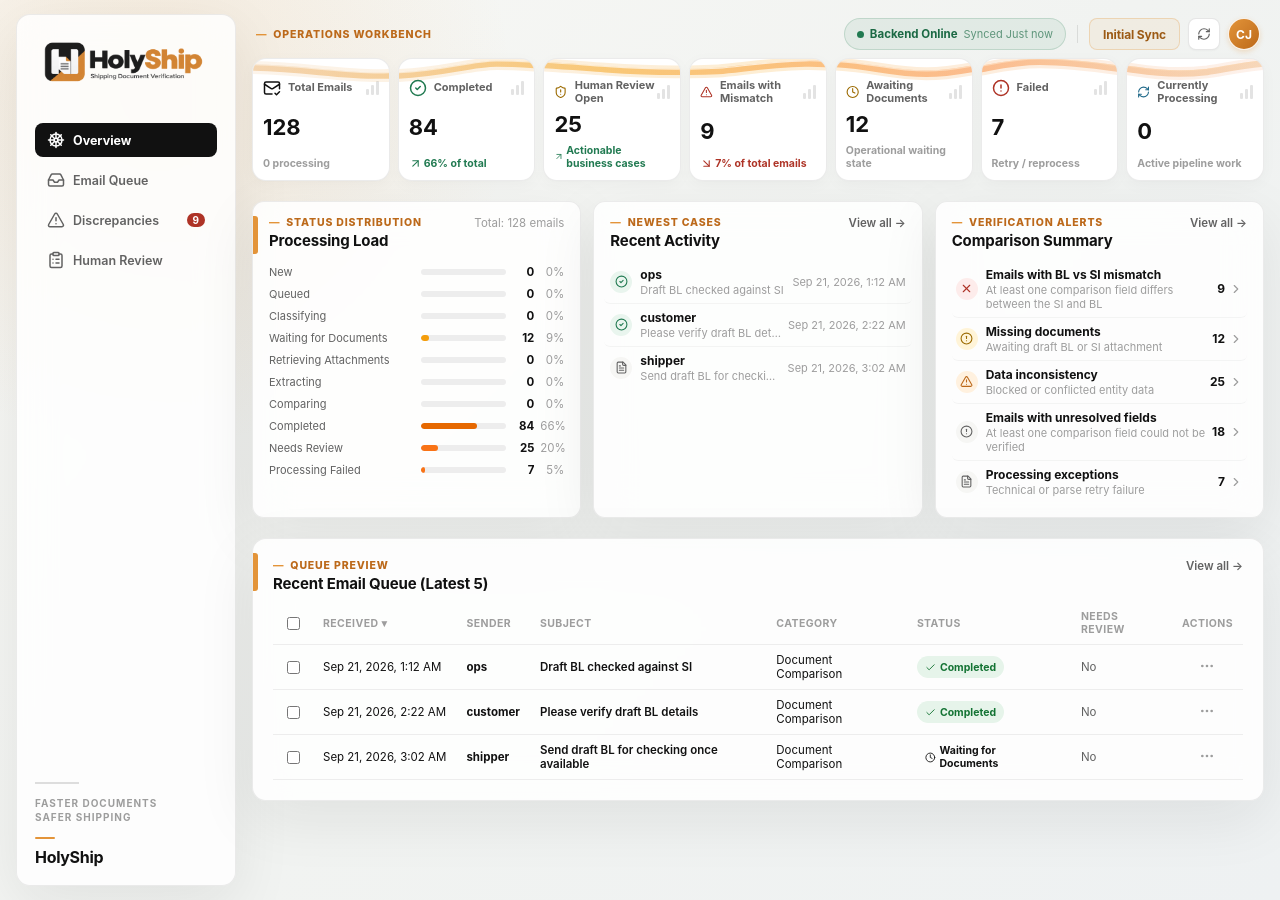
Test: HolyShip dashboard › navigates to queue with corresponding filters when clicking overview cards and alerts
The width and height of the screenshot is (1280, 900).
Note: Click "Emails with BL vs SI mismatch" alert row
Step 1. Click the text "Emails with BL vs SI mismatch" → {"x": 1073, "y": 274}, box [986,267,1161,282]
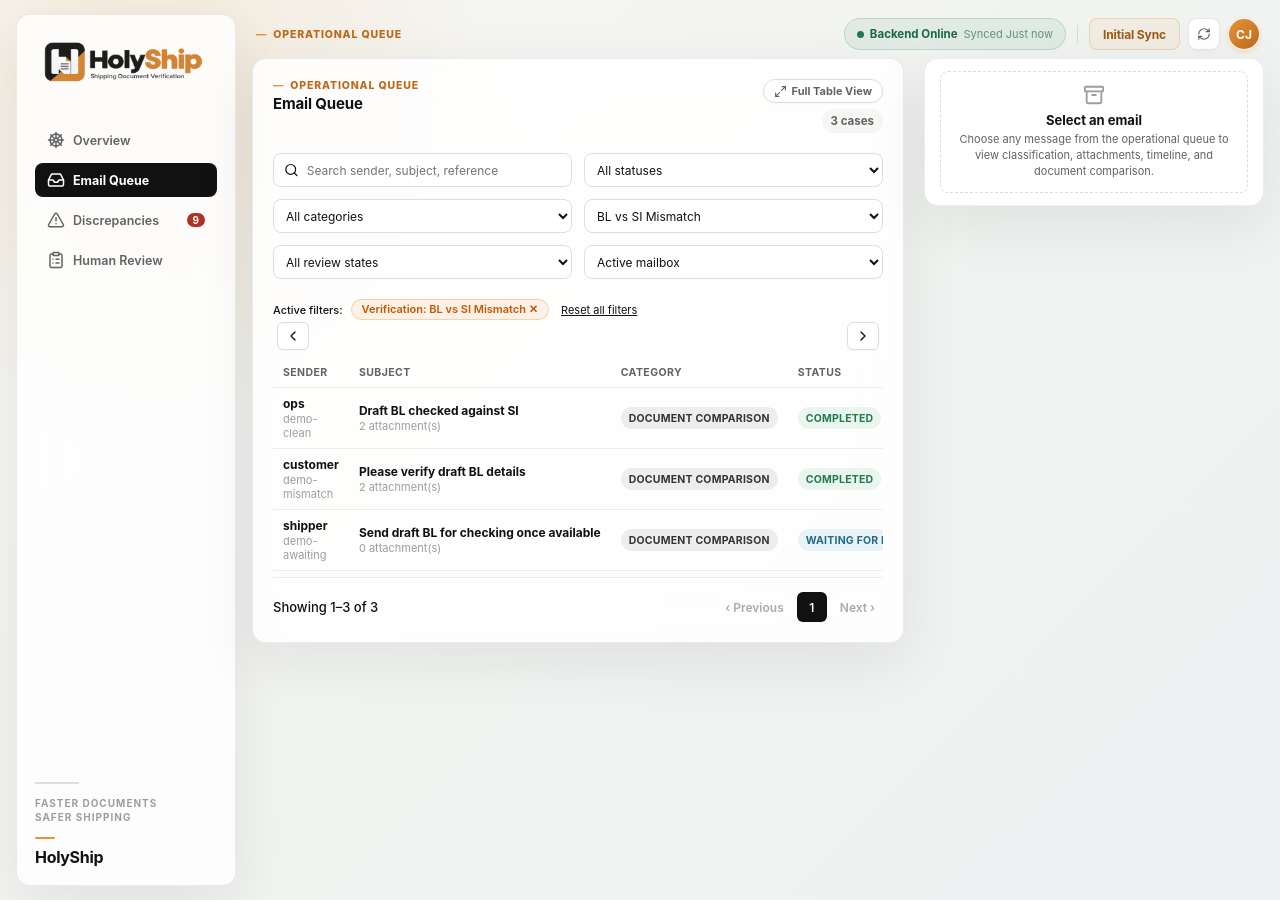
Now the button "Verification: BL vs SI Mismatch ✕" is shown, box [351,299,549,320]
Note: Navigate back to overview
Step 2. Click the button "Overview" → {"x": 126, "y": 140}, box [35,123,217,157]
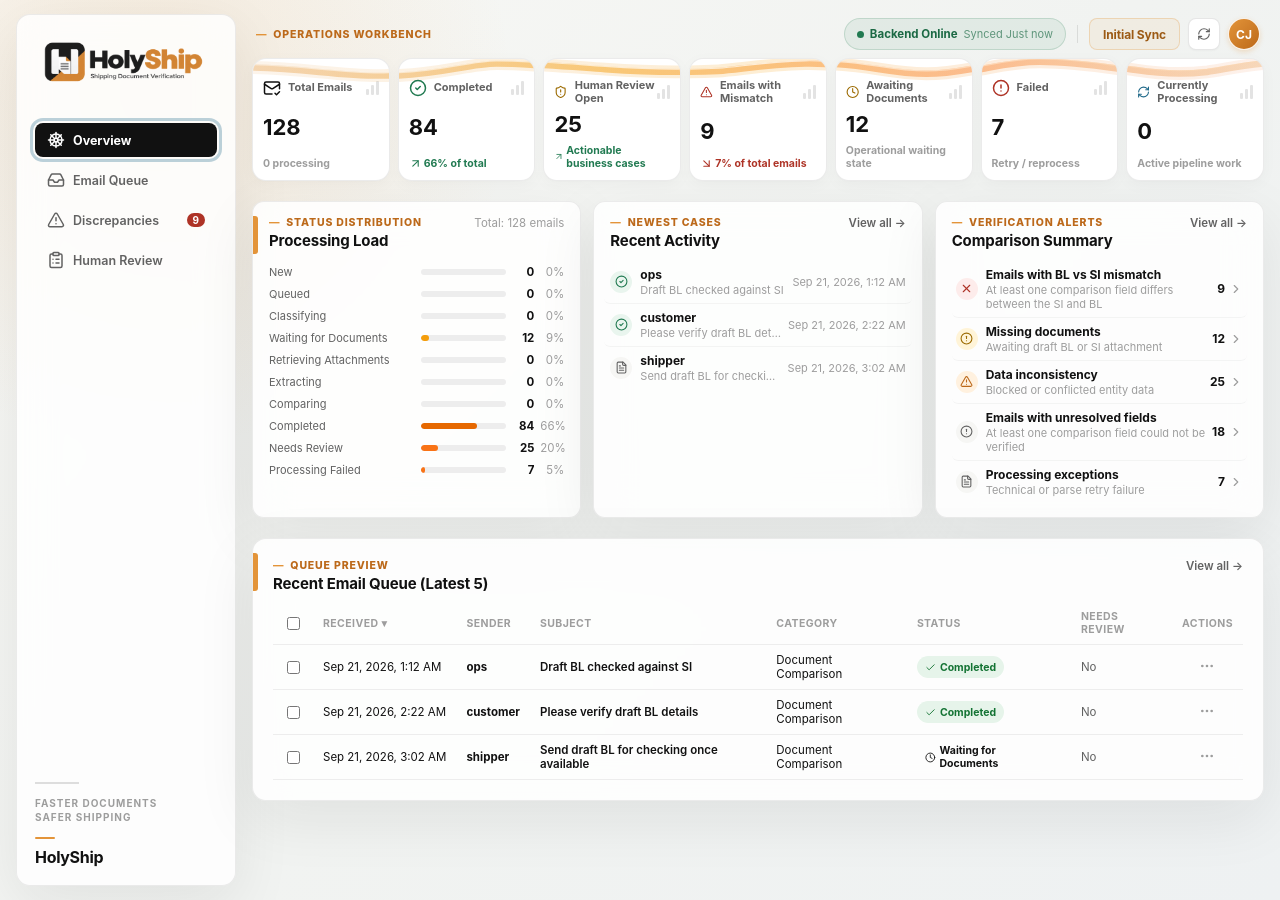
Note: Click "Missing documents" alert row
Step 3. Click the text "Missing documents" → {"x": 1043, "y": 331}, box [986,324,1101,339]
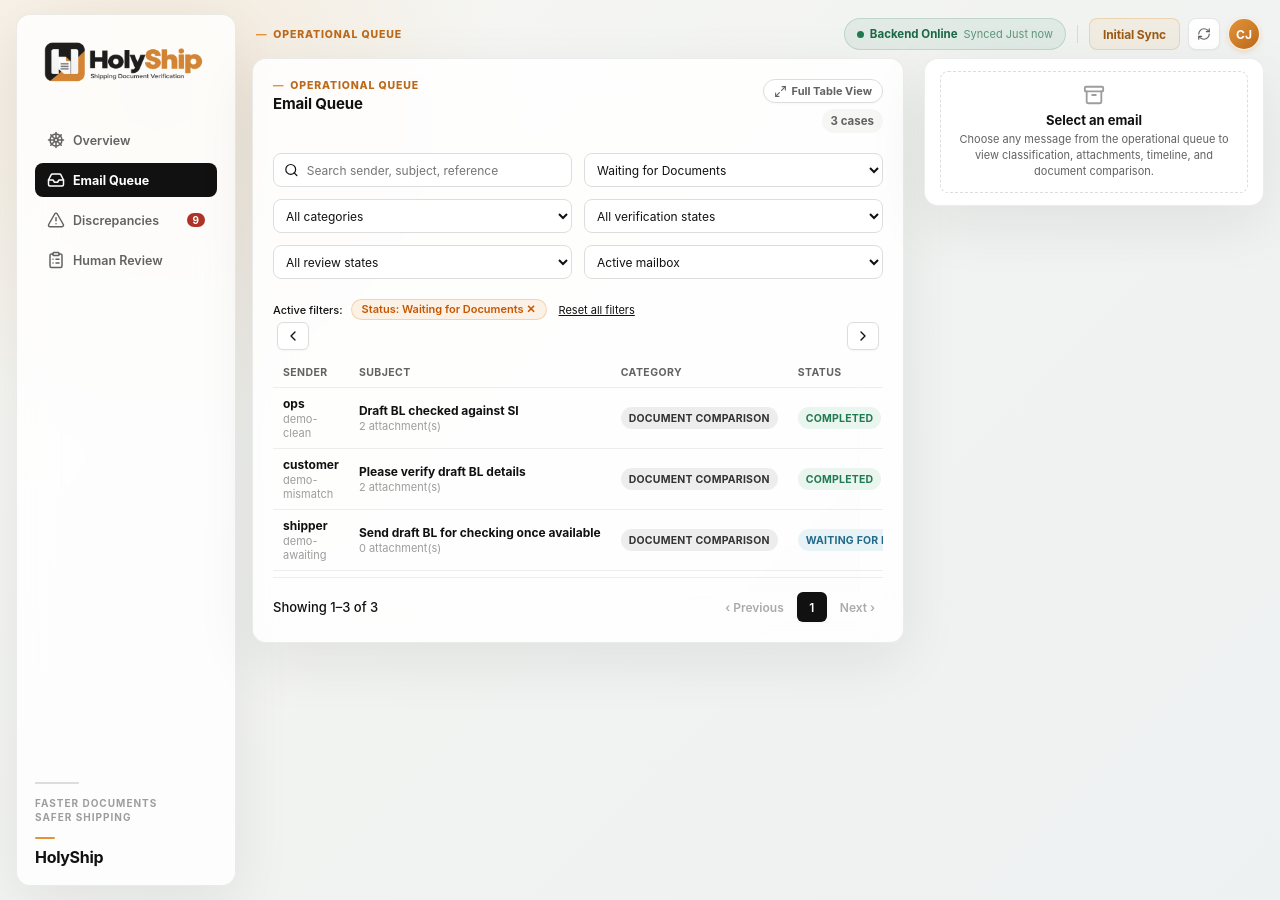
Now the button "Status: Waiting for Documents ✕" is shown, box [351,299,546,320]
